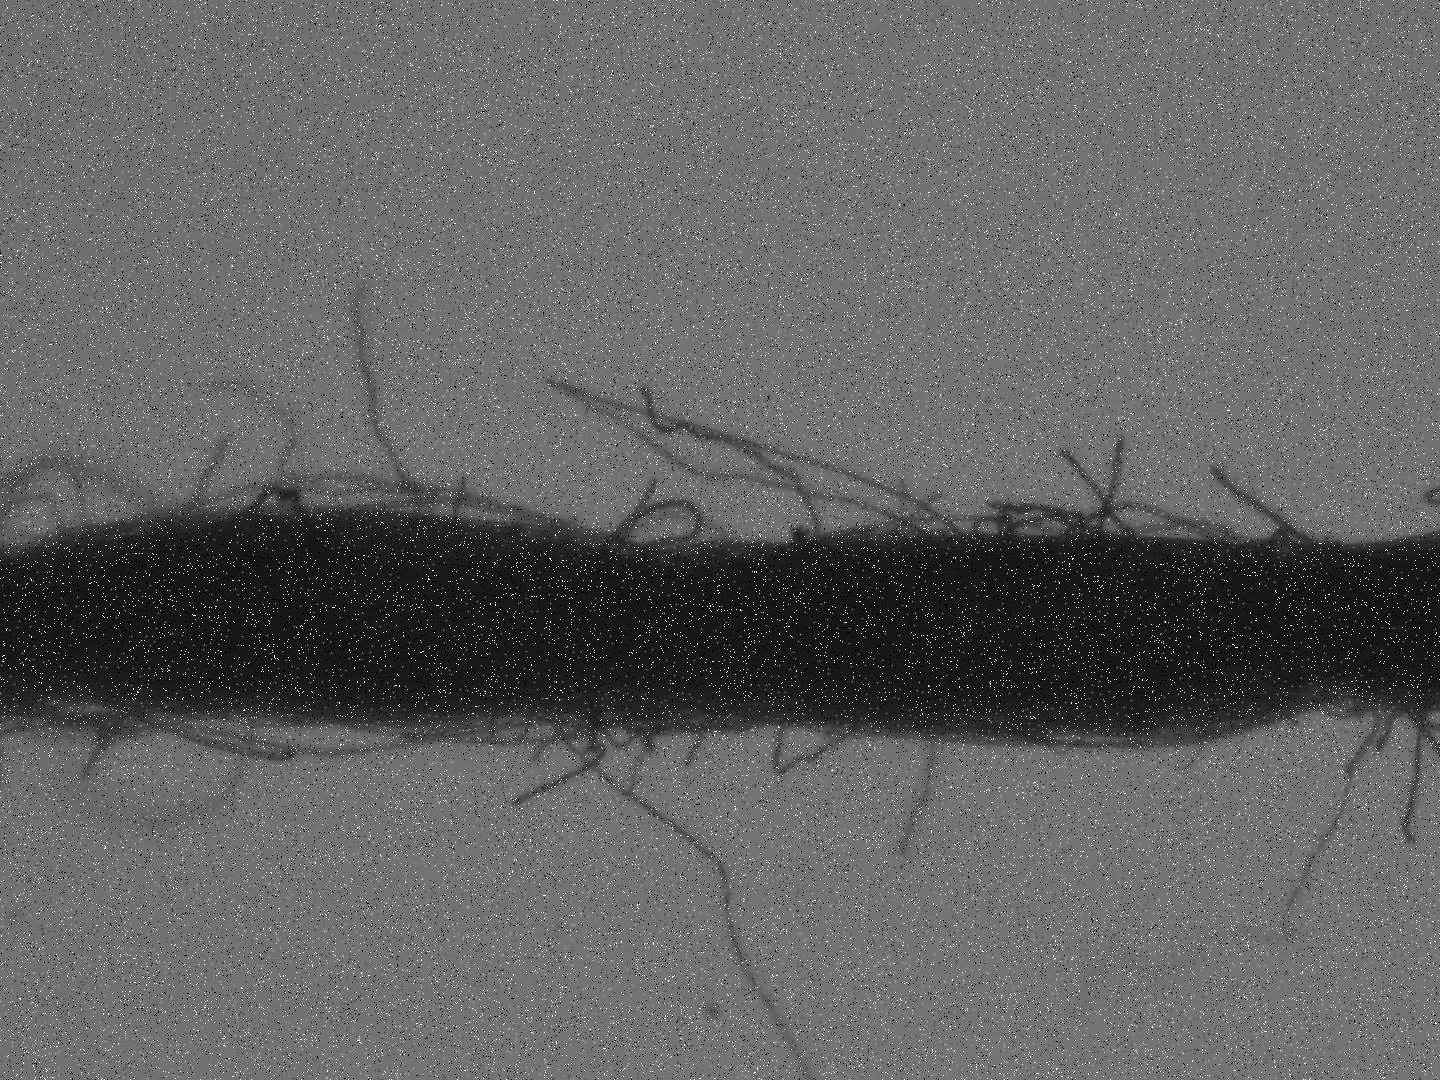loop_fiber: (353, 704, 560, 741), (22, 699, 209, 739), (367, 496, 573, 531), (571, 707, 726, 752), (598, 495, 704, 558), (1066, 500, 1227, 542), (773, 718, 869, 778), (239, 482, 312, 523), (1005, 512, 1098, 541), (1304, 697, 1404, 723), (485, 703, 536, 746), (973, 516, 1015, 541)
protruding_fiber: (347, 278, 424, 520), (1204, 463, 1324, 542), (889, 731, 945, 861)
